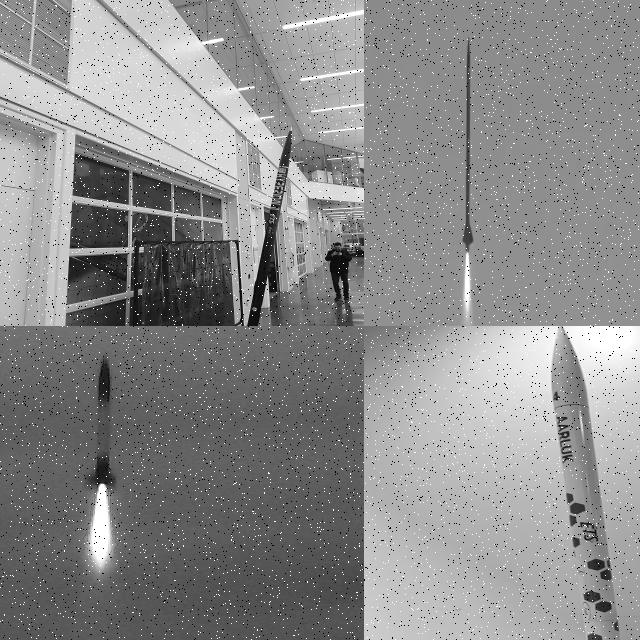Rocket: (551, 326, 621, 640), (247, 126, 292, 326), (92, 355, 114, 485), (463, 38, 474, 260)
